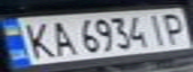3: (109, 15, 133, 51)
4: (127, 12, 151, 48)
6: (72, 16, 100, 54)
9: (93, 16, 115, 53)
A: (45, 18, 78, 56)
I: (145, 11, 172, 47)
K: (15, 18, 57, 60)
P: (157, 10, 190, 45)
